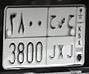0: (26, 18, 34, 64), (36, 19, 44, 63)
3: (8, 12, 16, 67)
8: (17, 12, 25, 65)
J: (48, 13, 58, 61), (67, 13, 75, 61)
X: (58, 16, 66, 61)
